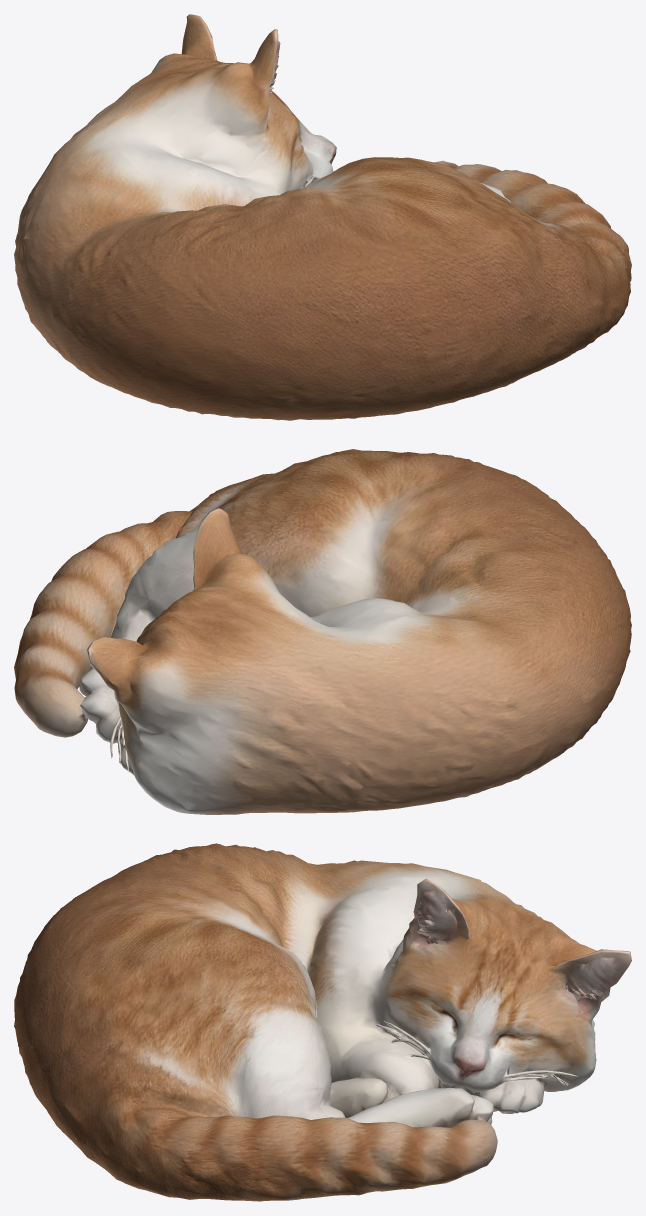
File: cat_real.glb
3 renders of one model, top to bottom at view 1: azimuth 30°, elevation 25°; view 2: azimuth 150°, elevation 25°; view 3: azimuth 270°, elevation 25°, orthographic. The views are drawn at different scales.
Visible parts, largest first — view 1: tripo_node_302b31d2-dab9-4d59-8e63-ba063fa1f756; view 2: tripo_node_302b31d2-dab9-4d59-8e63-ba063fa1f756; view 3: tripo_node_302b31d2-dab9-4d59-8e63-ba063fa1f756.
Part boxes in pixels (left/top/right/bottom): tripo_node_302b31d2-dab9-4d59-8e63-ba063fa1f756: left=14, top=14, right=631, bottom=420; tripo_node_302b31d2-dab9-4d59-8e63-ba063fa1f756: left=14, top=449, right=631, bottom=814; tripo_node_302b31d2-dab9-4d59-8e63-ba063fa1f756: left=14, top=843, right=631, bottom=1201.
Bounding box in the file's own units: 0.9526 × 0.4032 × 1.
1 material, 1 textured.
